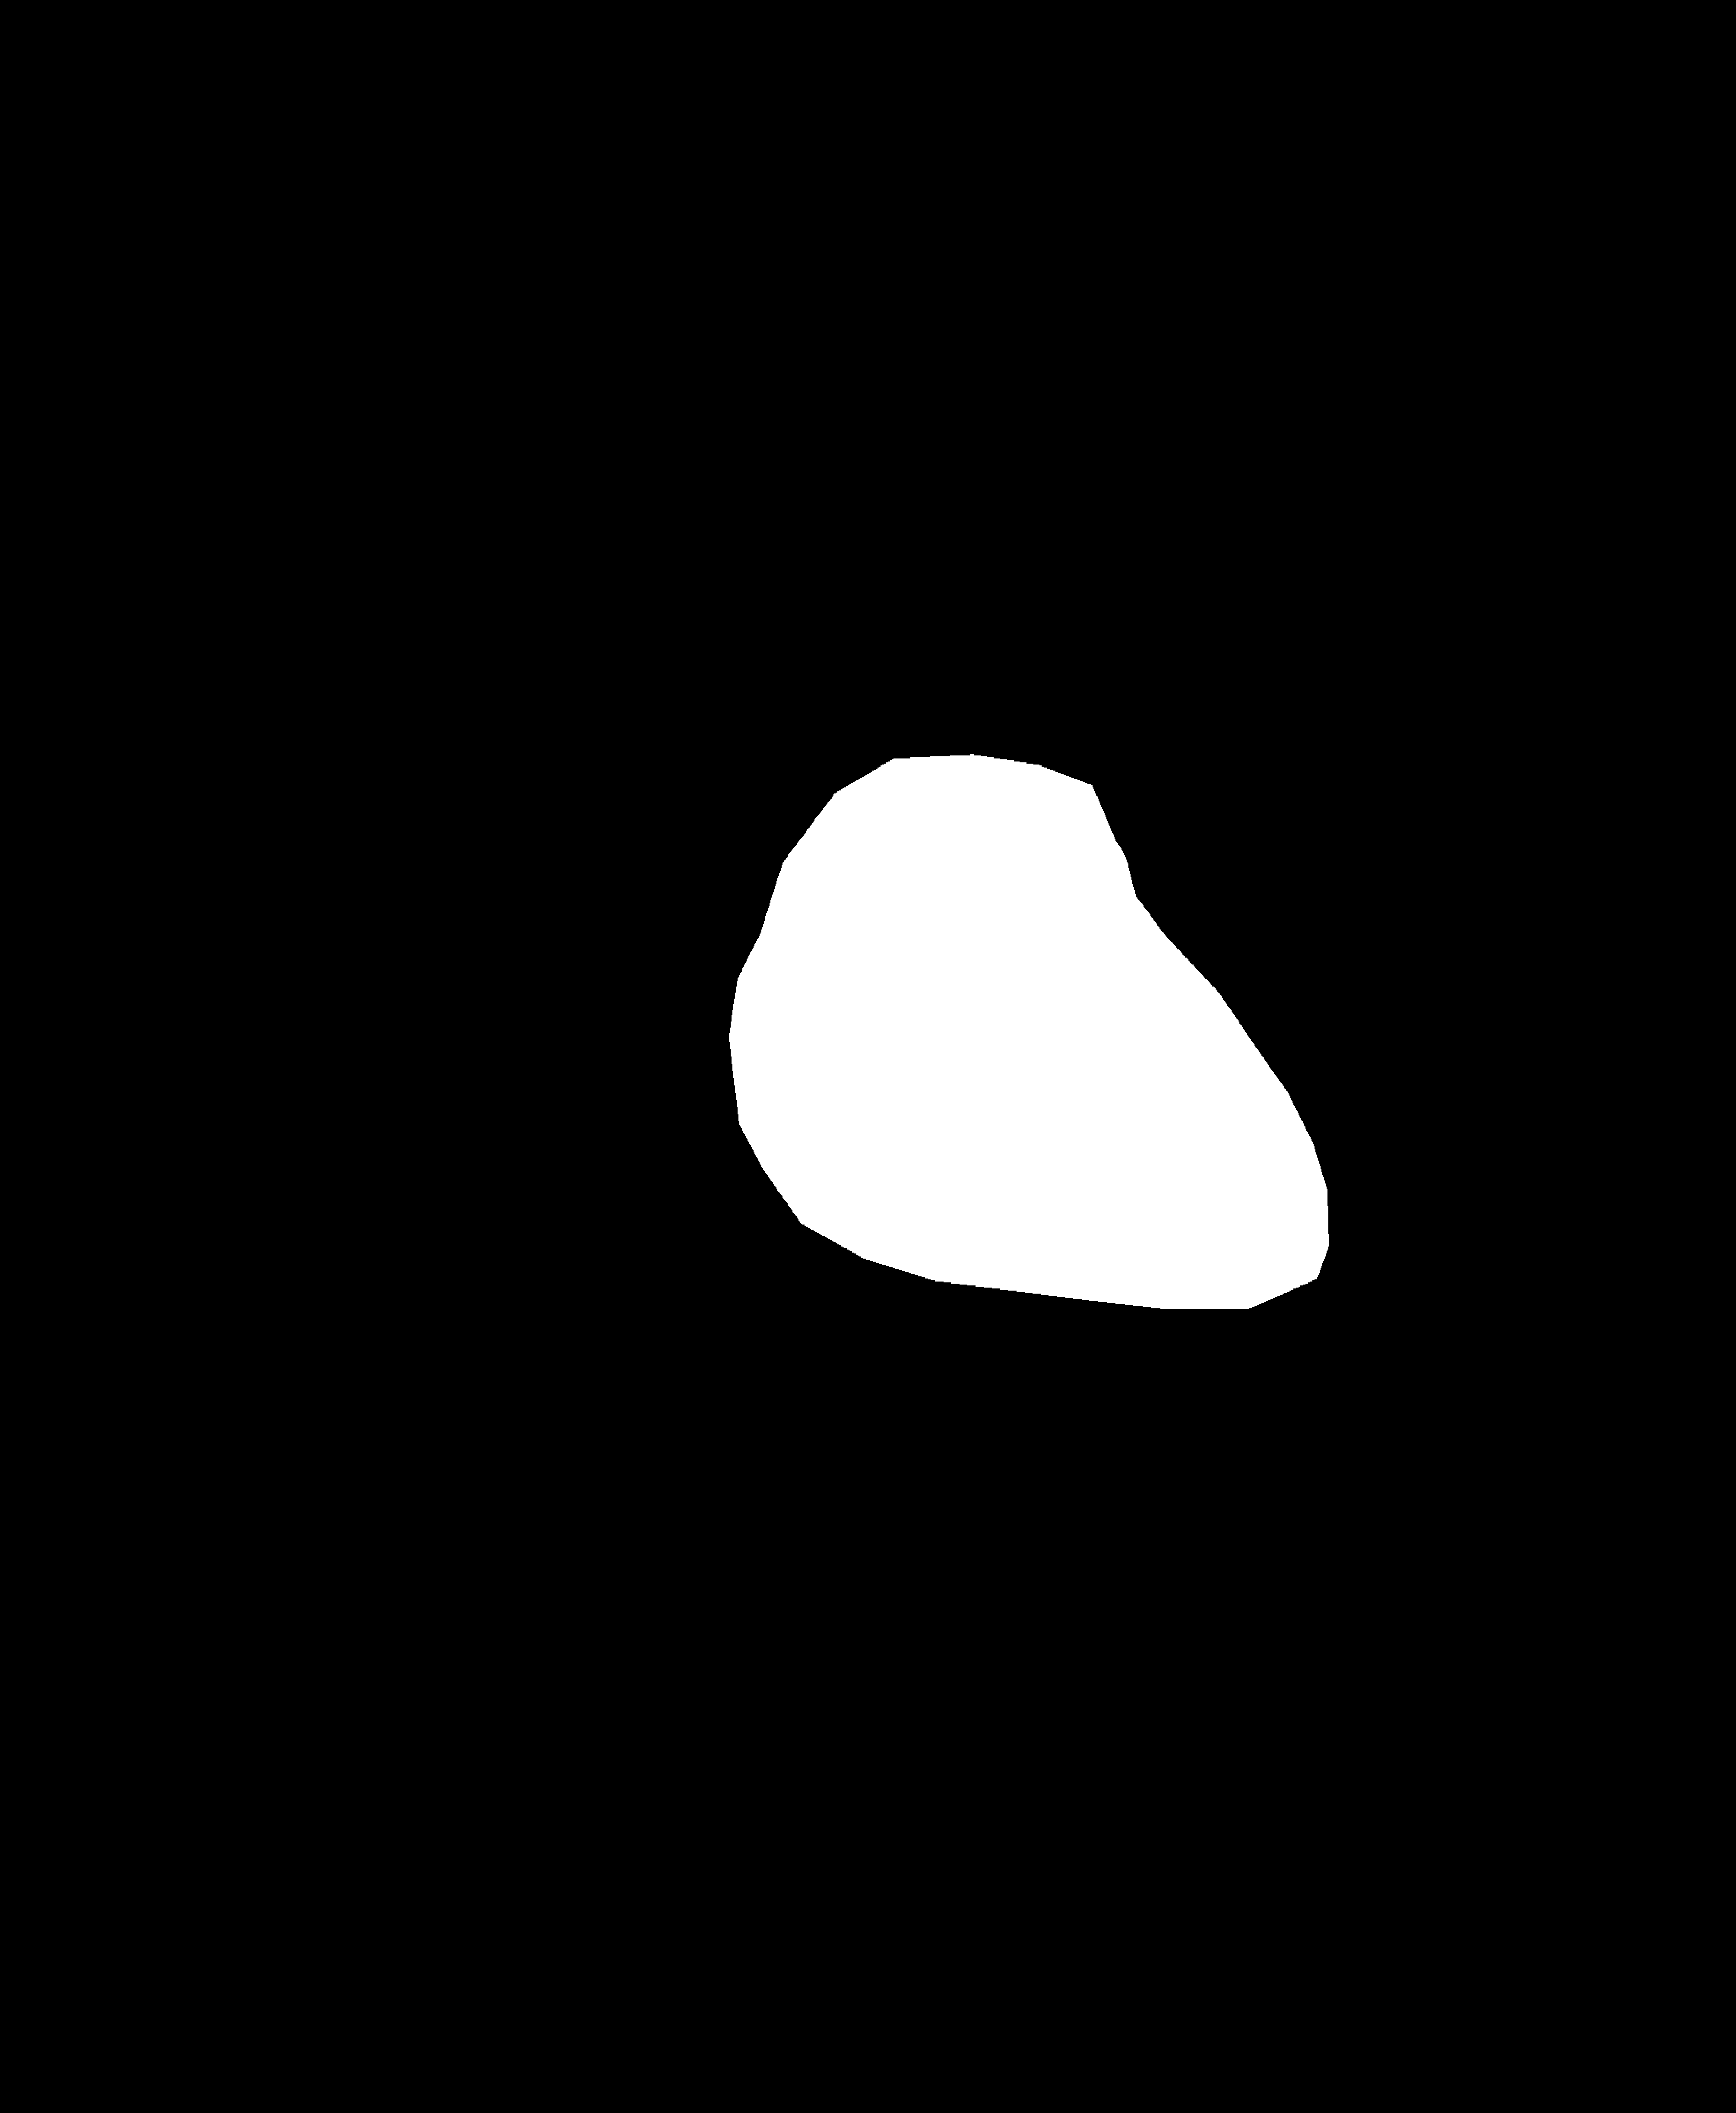heart: (716, 897, 1336, 1437)
left_lung: (135, 246, 814, 1302)
right_lung: (974, 230, 1634, 1450)
